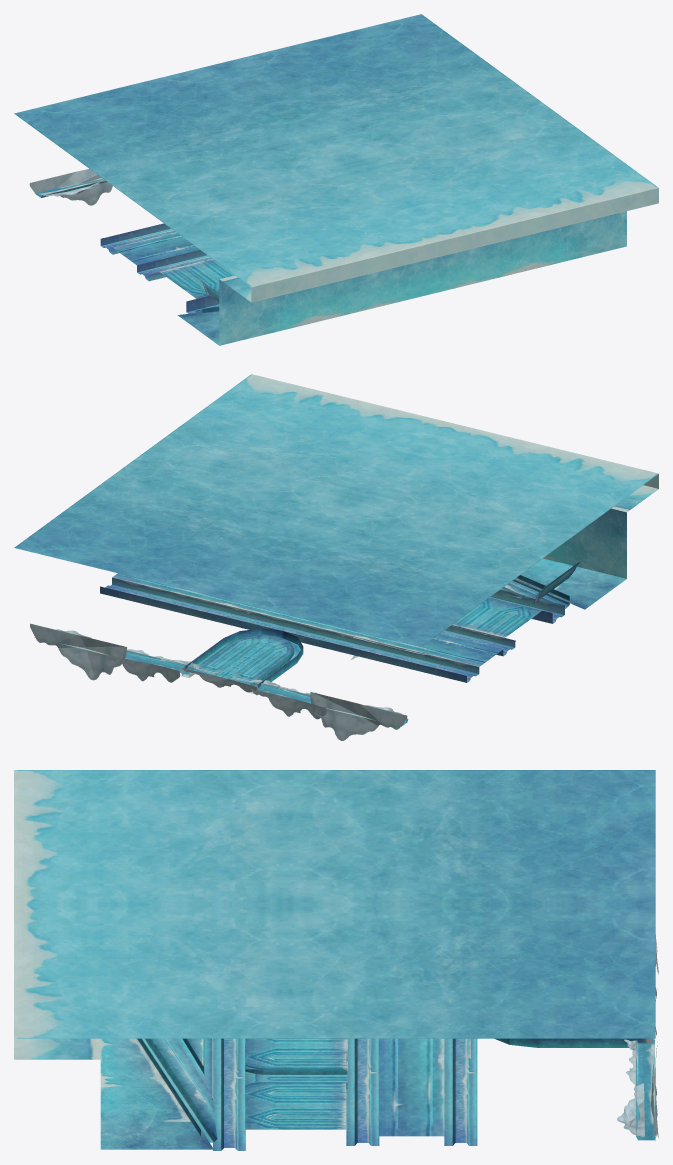
The model's file is huodong_fuben_660_chengqiang.obj.
3 views of the same model, one above another, from view 1: azimuth 30°, elevation 25°; view 2: azimuth 150°, elevation 25°; view 3: azimuth 270°, elevation 25° (orthographic). The views are drawn at different scales.
Visible parts, largest first — view 1: huodong_fuben_660_chengqiang; view 2: huodong_fuben_660_chengqiang; view 3: huodong_fuben_660_chengqiang.
Part boxes in pixels (x1,y1,x2,y2): huodong_fuben_660_chengqiang: (14, 14, 658, 345); huodong_fuben_660_chengqiang: (14, 374, 658, 740); huodong_fuben_660_chengqiang: (14, 770, 658, 1150).
Bounding box in the file's own units: 2000 × 534 × 2028.
Materials: 5 (5 with a texture image).
